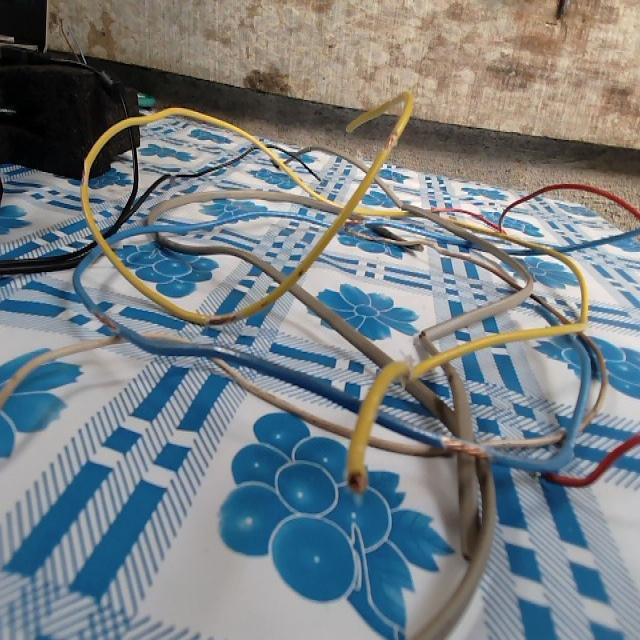-: (438, 432, 490, 465), (89, 304, 120, 339), (343, 465, 369, 496), (201, 309, 243, 327), (381, 126, 401, 154), (76, 159, 92, 185), (414, 325, 432, 348), (343, 215, 366, 228)
